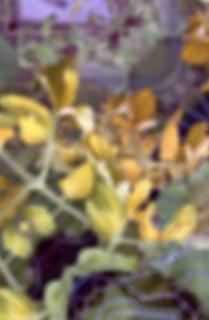Tomato leaf yellow virus: (130, 139, 209, 298), (68, 223, 157, 311), (61, 167, 143, 249), (8, 99, 68, 159)
